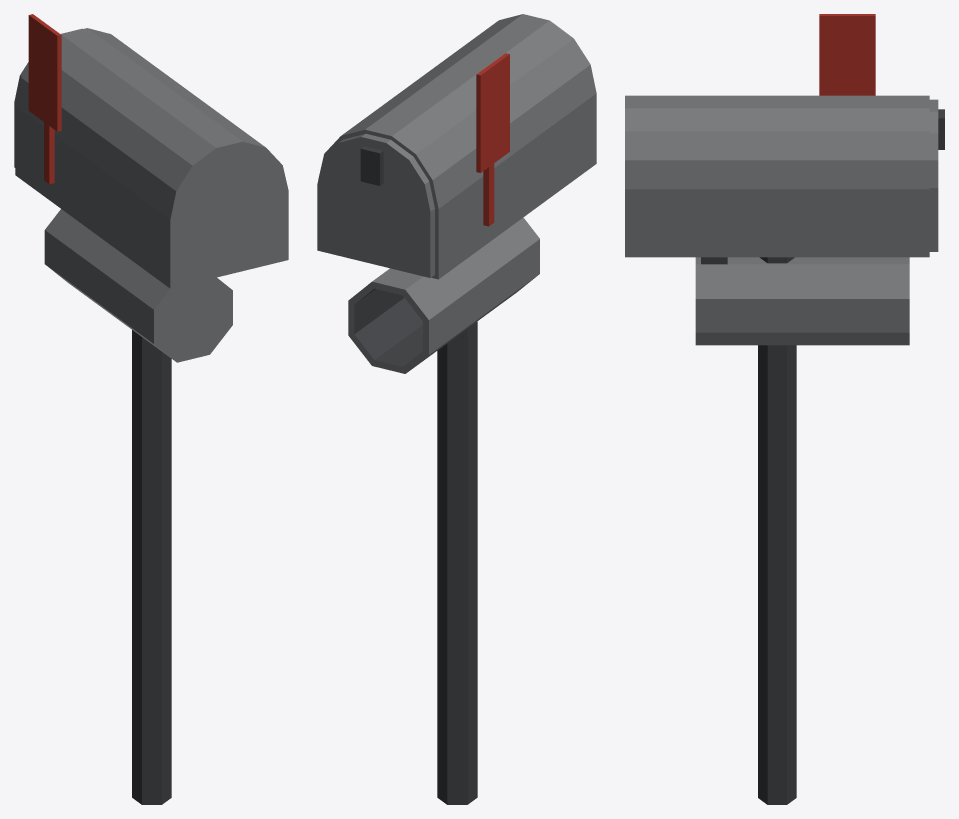
File: mailbox-tube.glb
3 renders of one model, left to right at view 1: azimuth 30°, elevation 25°; view 2: azimuth 150°, elevation 25°; view 3: azimuth 270°, elevation 25°, orthographic. The views are drawn at different scales.
Visible parts, largest first — view 1: MailboxTube, Flag; view 2: MailboxTube, Flag; view 3: MailboxTube, Flag.
Part boxes in pixels (x1,y1,x2,y2): MailboxTube: [14, 28, 288, 804]; Flag: [28, 14, 61, 184]; MailboxTube: [317, 14, 596, 804]; Flag: [476, 53, 509, 226]; MailboxTube: [625, 95, 944, 804]; Flag: [819, 14, 875, 95].
Bounding box in the file's own units: 0.2235 × 1.24 × 0.478.
